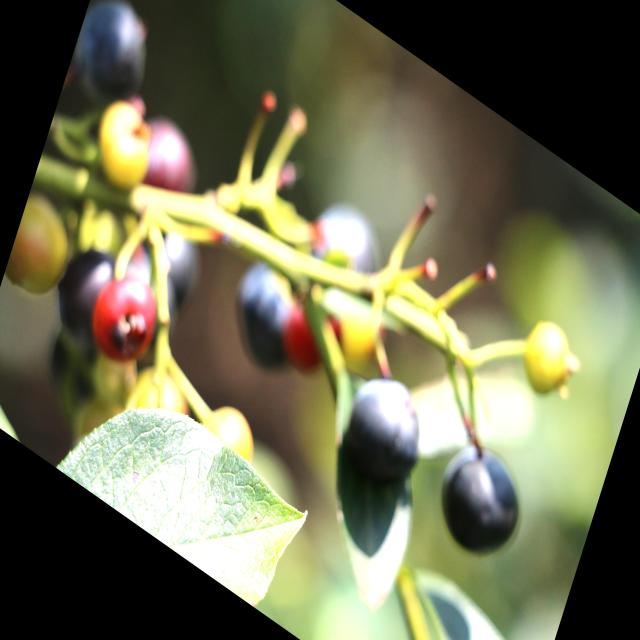blueberry: (423, 422, 538, 584), (286, 172, 392, 321), (332, 357, 434, 499), (113, 79, 212, 217), (223, 246, 316, 386), (67, 0, 162, 117), (45, 228, 131, 354), (128, 198, 210, 317)
blueberry-halfripe: (82, 256, 166, 380)
